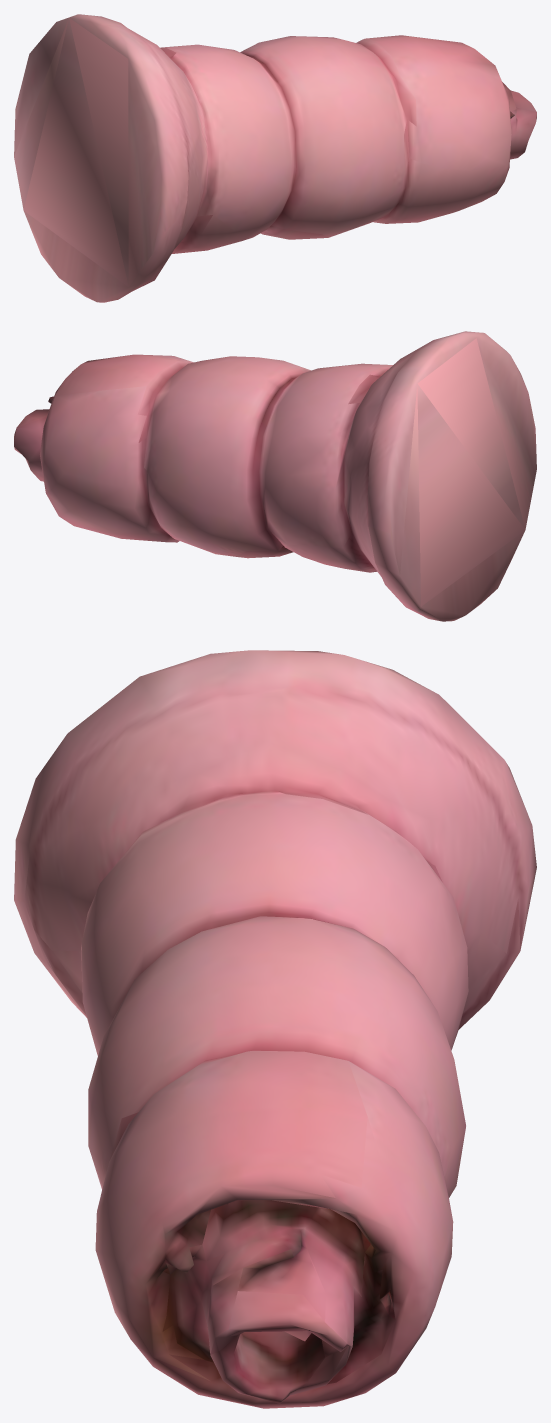
The model's file is leg1_chirimecha.glb.
The picture shows the model from 3 angles, top to bottom: view 1: azimuth 30°, elevation 25°; view 2: azimuth 150°, elevation 25°; view 3: azimuth 270°, elevation 25°; orthographic projection. The views are drawn at different scales.
Visible parts, largest first — view 1: leg 1; view 2: leg 1; view 3: leg 1.
Boxes of the visible parts, x1,y1,x2,y2 form: leg 1: (14, 14, 536, 302); leg 1: (14, 331, 536, 621); leg 1: (14, 650, 536, 1408).
Size of the model in its own units: 1.62 by 0.8934 by 0.9093.
Materials: 1 (1 with a texture image).
